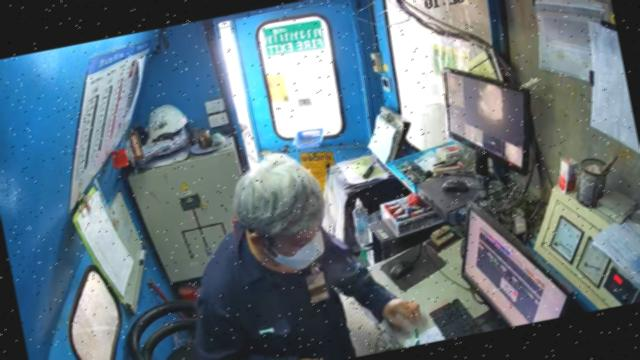Head: (233, 155, 326, 257)
People: (194, 157, 421, 359)
